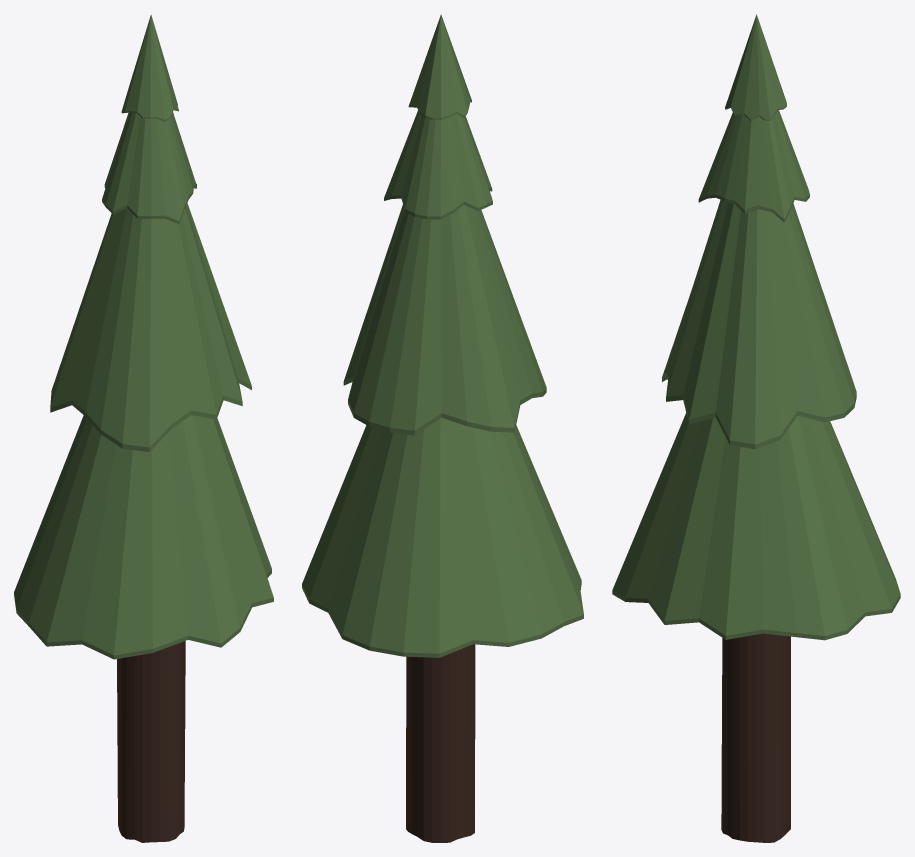
The model's file is tree_plain.glb.
The picture shows the model from 3 angles, left to right: view 1: azimuth 30°, elevation 25°; view 2: azimuth 150°, elevation 25°; view 3: azimuth 270°, elevation 25°; orthographic projection.
Visible parts, largest first — view 1: Cylinder; view 2: Cylinder; view 3: Cylinder.
Boxes of the visible parts, bbox=[...] form: Cylinder: bbox=[14, 14, 273, 842]; Cylinder: bbox=[302, 14, 583, 842]; Cylinder: bbox=[612, 14, 900, 842].
Size of the model in its own units: 1.48 by 5.03 by 1.61.
